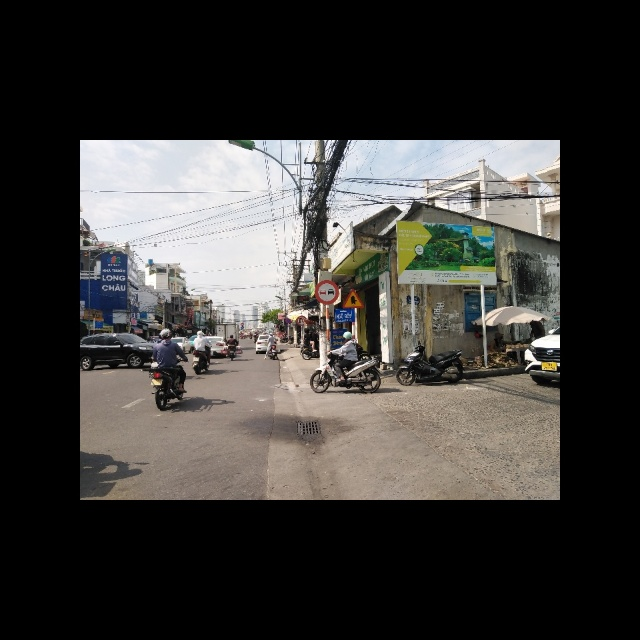Cấm vượt: (315, 281, 340, 305)
Giao nhau với đường không ưu tiên: (342, 286, 364, 308)
